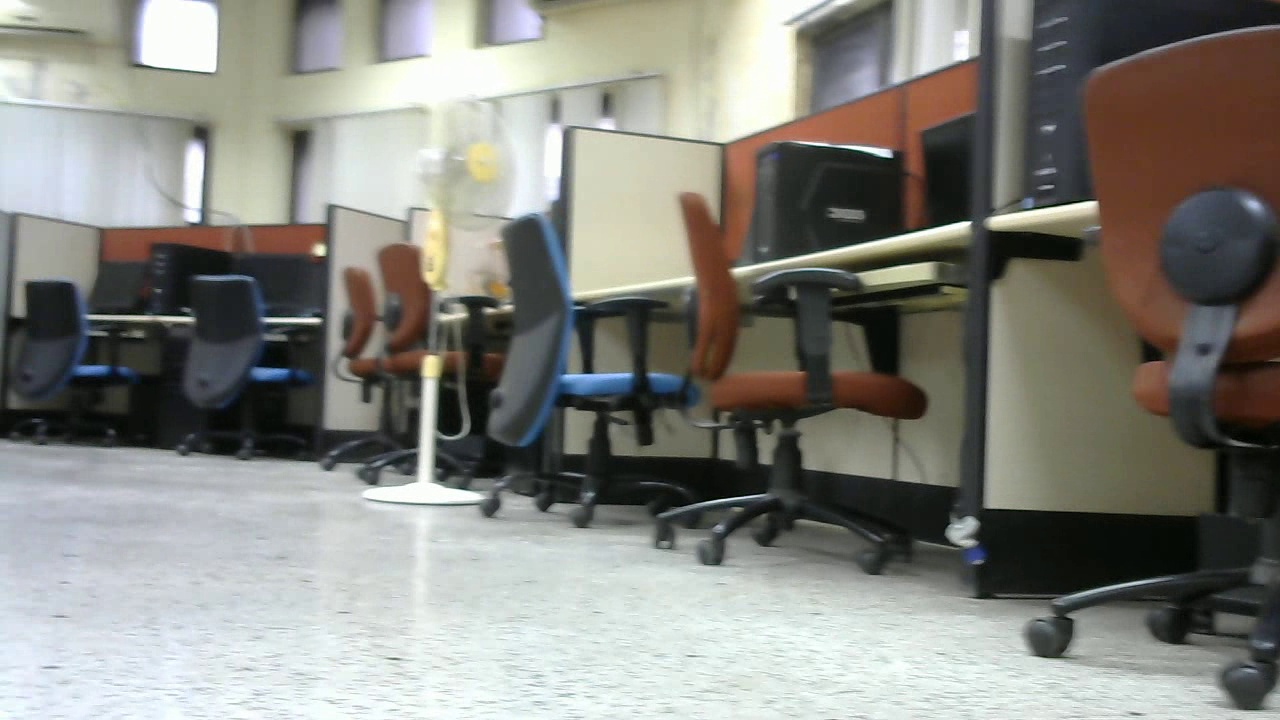chair: (650, 191, 936, 567), (475, 215, 706, 524), (333, 248, 495, 484), (170, 270, 320, 457), (8, 280, 136, 453)
